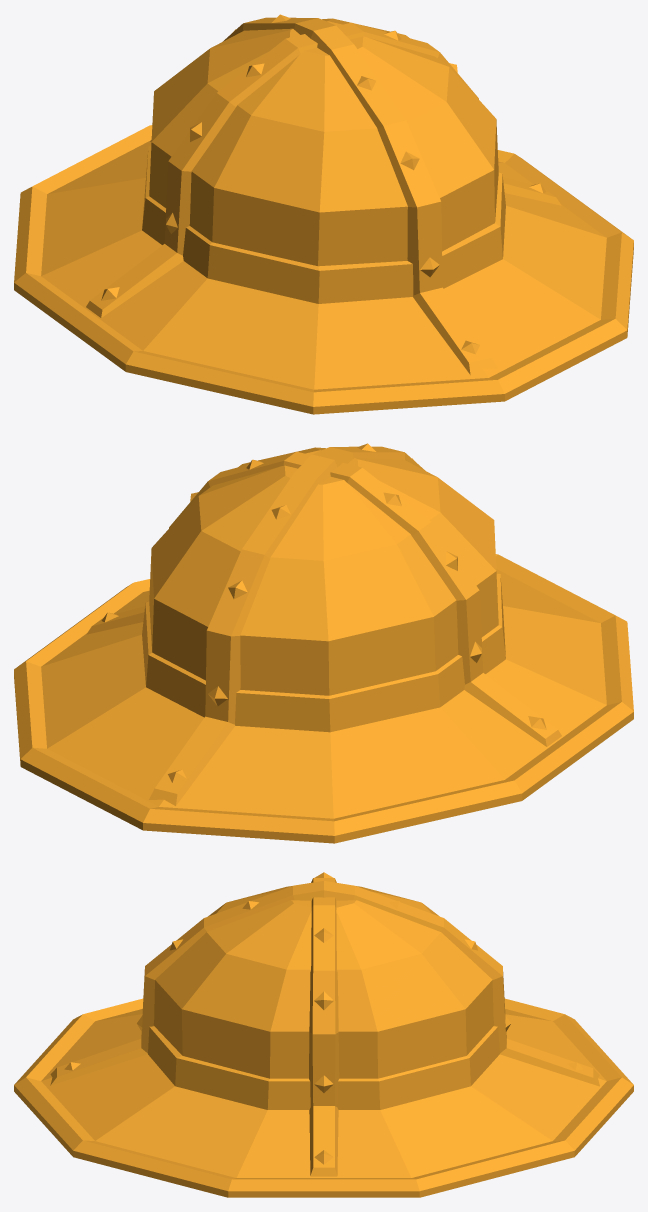
The model's file is SM_Helmet_Kattle_Hat_A_Placed.fbx.
3 views of the same model, one above another, from view 1: azimuth 30°, elevation 25°; view 2: azimuth 150°, elevation 25°; view 3: azimuth 270°, elevation 25° (orthographic). The views are drawn at different scales.
Parts seen in each view (by area): view 1: helmet-kattle-hat-a-placed; view 2: helmet-kattle-hat-a-placed; view 3: helmet-kattle-hat-a-placed.
Boxes of the visible parts, <box> form: helmet-kattle-hat-a-placed: <box>14,14,633,414</box>; helmet-kattle-hat-a-placed: <box>14,443,633,843</box>; helmet-kattle-hat-a-placed: <box>14,872,633,1197</box>.
Size of the model in its own units: 0.336 by 0.1686 by 0.4144.
